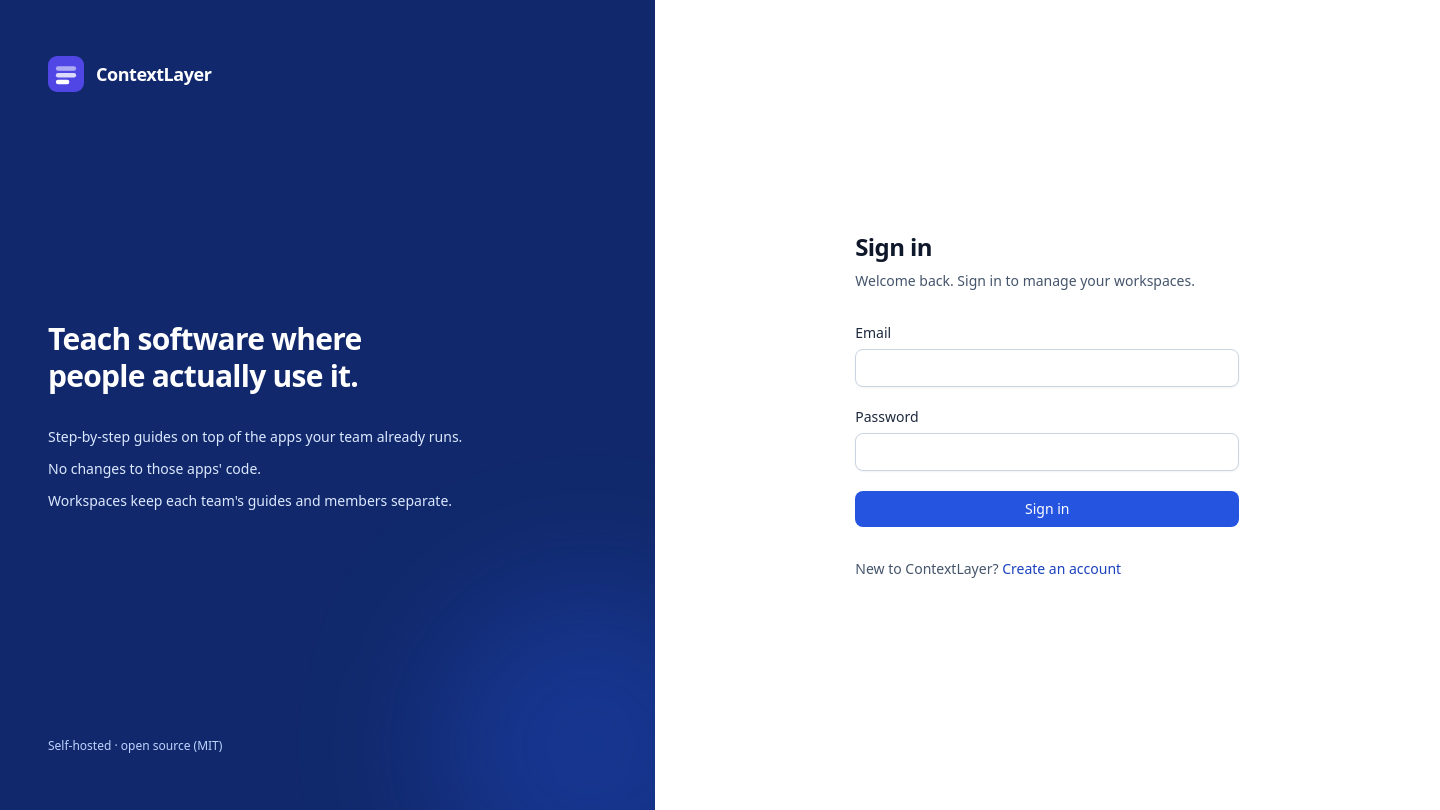
LoginPage › shows the API message for bad credentials and clears the password
Type "alice@example.com" into the field labelled "Email".
click(1047, 368); type("alice@example.com")  # box [855,349,1239,387]
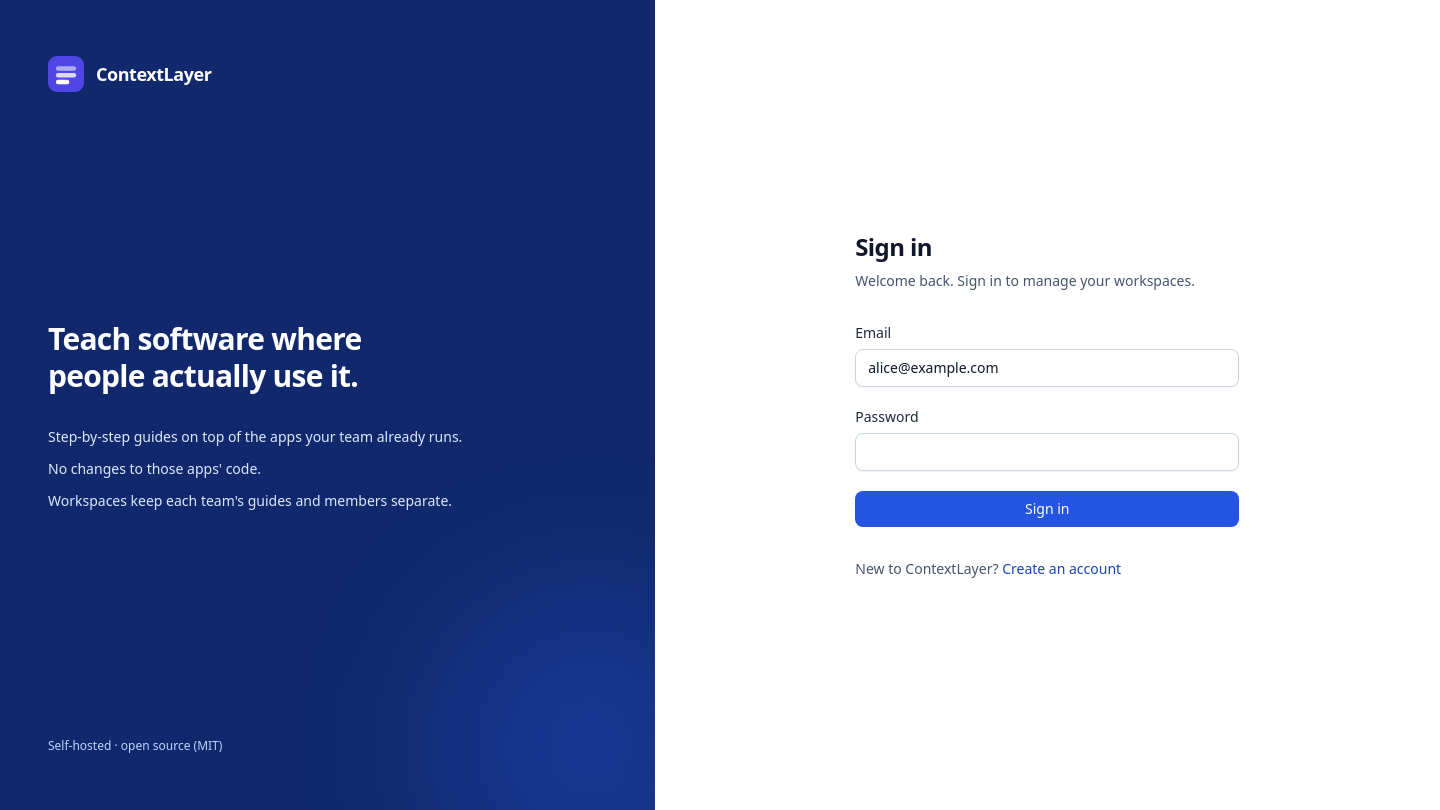
Type "wrong password" into the password field labelled "Password".
click(1047, 452); type("wrong password")  # box [855,433,1239,471]
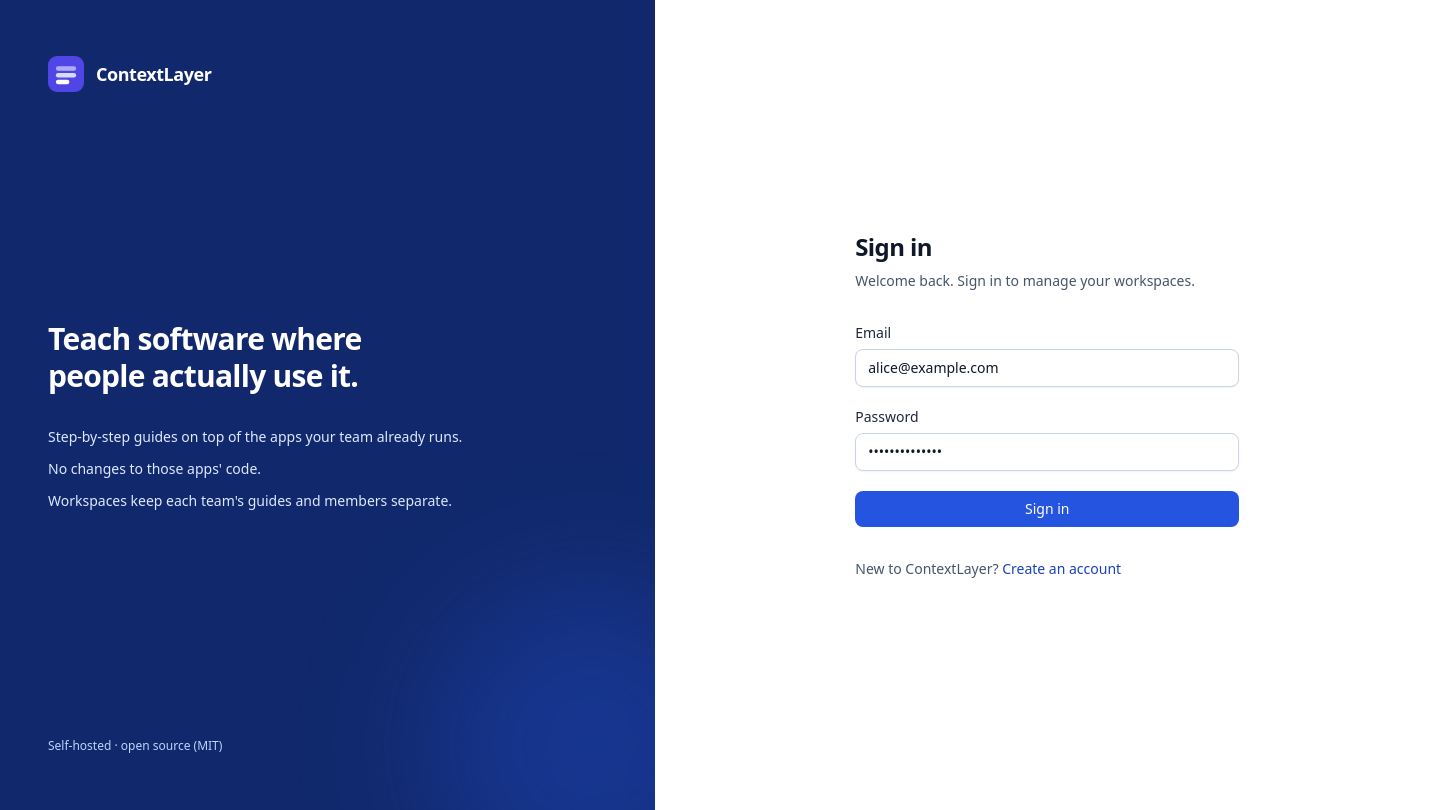
Submit the form, box [855,323,1239,527]
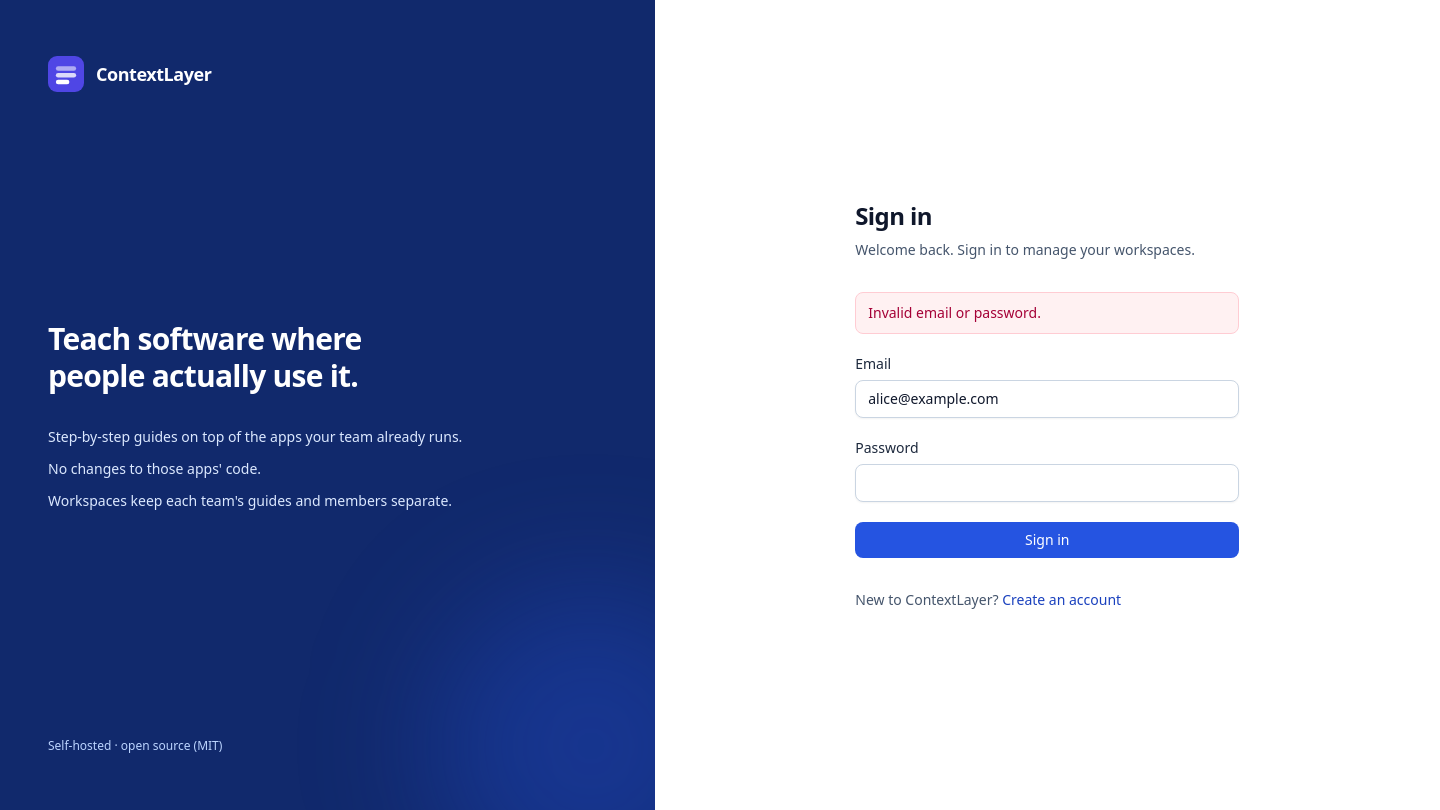
Check: the message "Invalid email or password." is shown, box [855,292,1239,334]
Check: the password field labelled "Password" is empty, box [855,464,1239,502]
